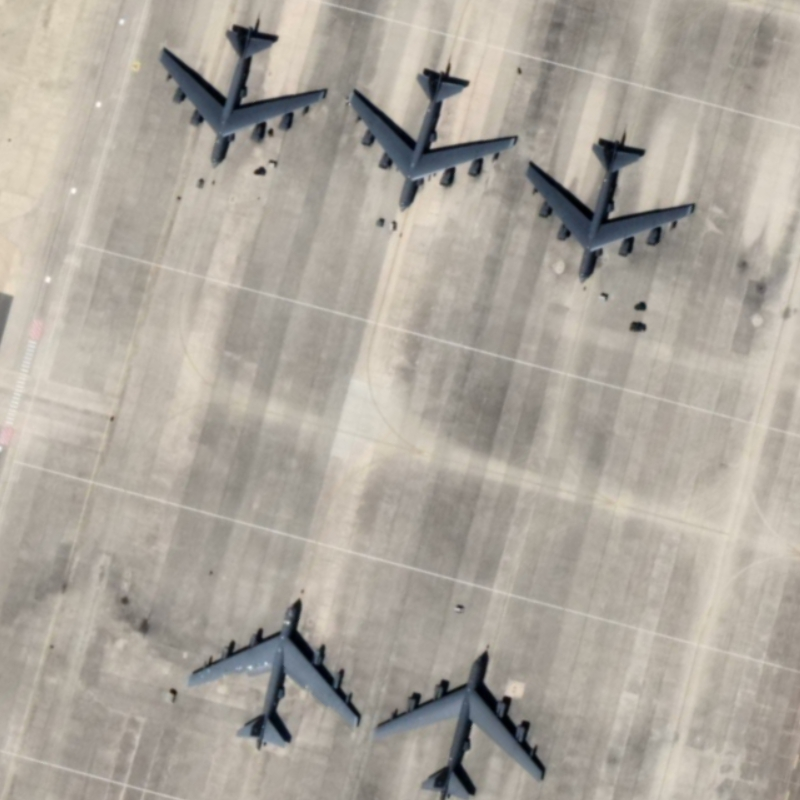A8: (179, 584, 363, 760), (149, 18, 337, 177), (371, 638, 554, 800), (521, 128, 703, 290), (343, 61, 524, 217)
